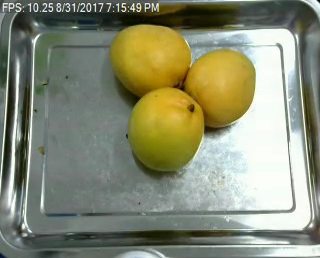Mango: (126, 88, 205, 172), (112, 25, 191, 97), (185, 50, 255, 123)
